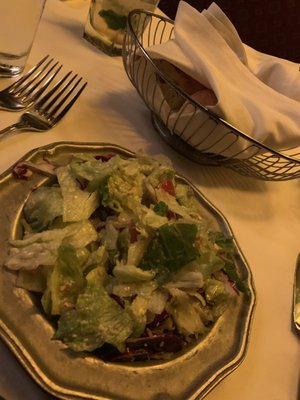burger: (0, 69, 88, 140), (0, 53, 62, 111)
pizza: (82, 0, 165, 57), (0, 0, 47, 79)
